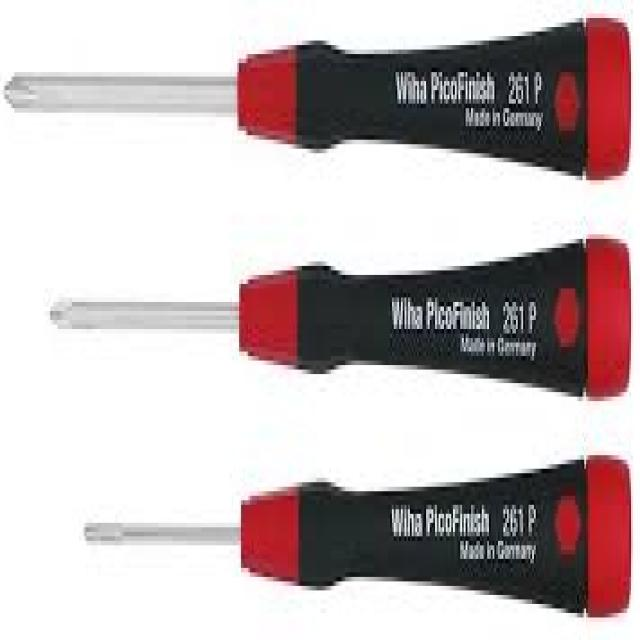screw driver: (23, 209, 640, 410), (70, 437, 640, 640)
